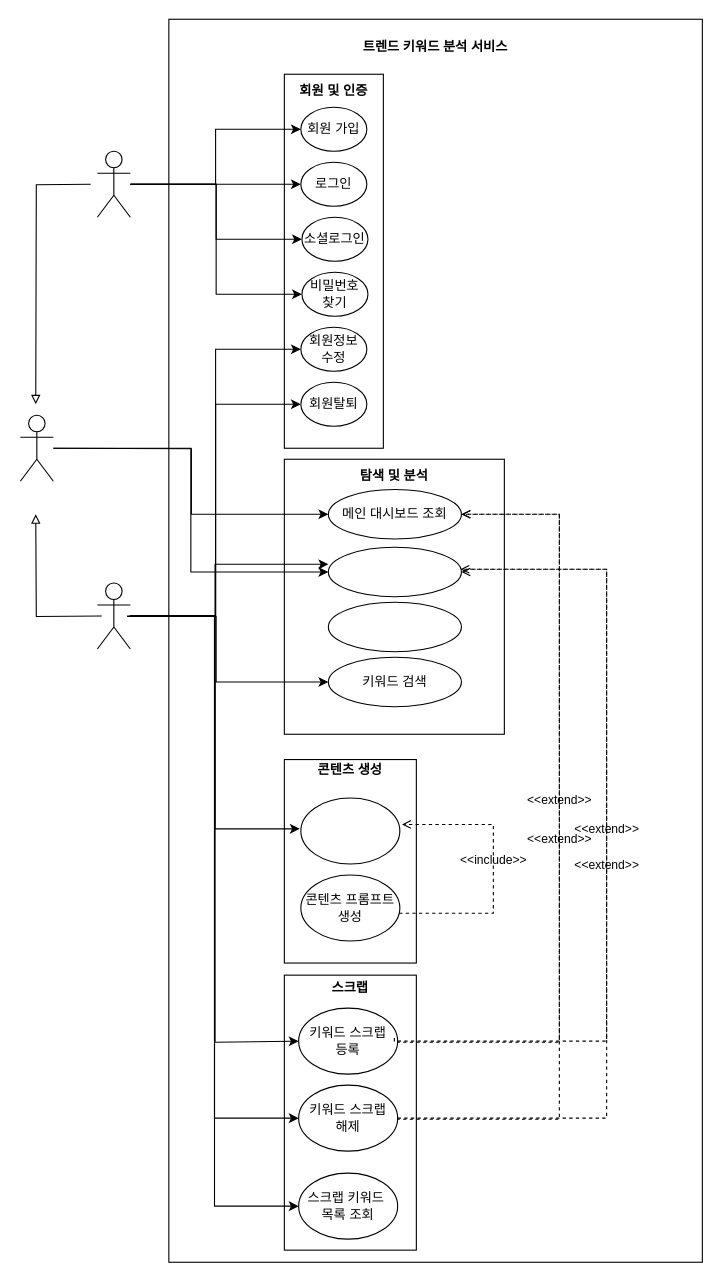
Some shapes in this 722 by 1282 pixel diagram are drawn without their labels. Here are the shapes that lost their labels. From the top down, the centre of each, then its label:
the point at 113,183: 비회원
the point at 36,447: 사용자
the point at 394,571: 키워드 요약 분석 조회
the point at 113,615: 회원
the point at 394,626: 키워드 상세 분석 조회
the point at 350,830: 콘텐츠 생성 옵션 설정
